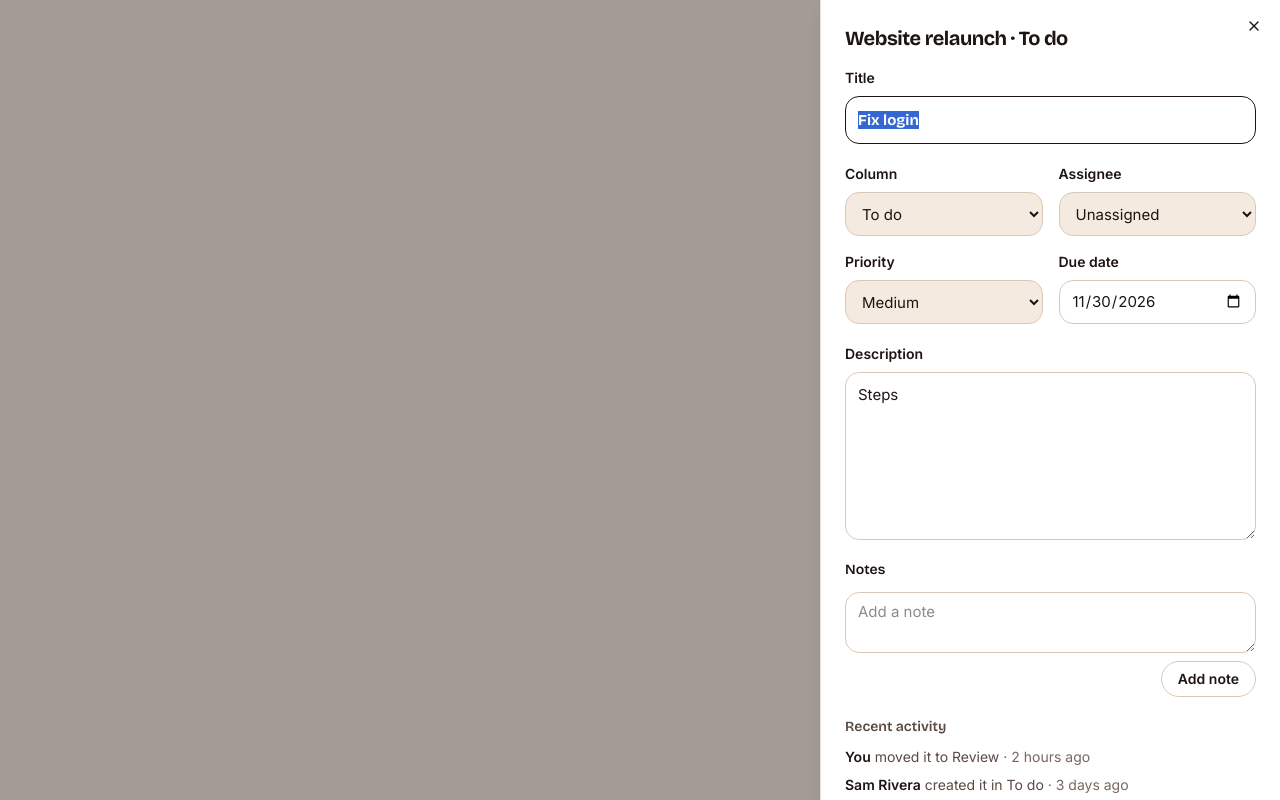
Scenario: TaskDrawer › won't save an empty title, and says why
This screenshot has width=1280, height=800.
Clear the field labelled "Title" at (1050, 120), box [845,96,1256,144]
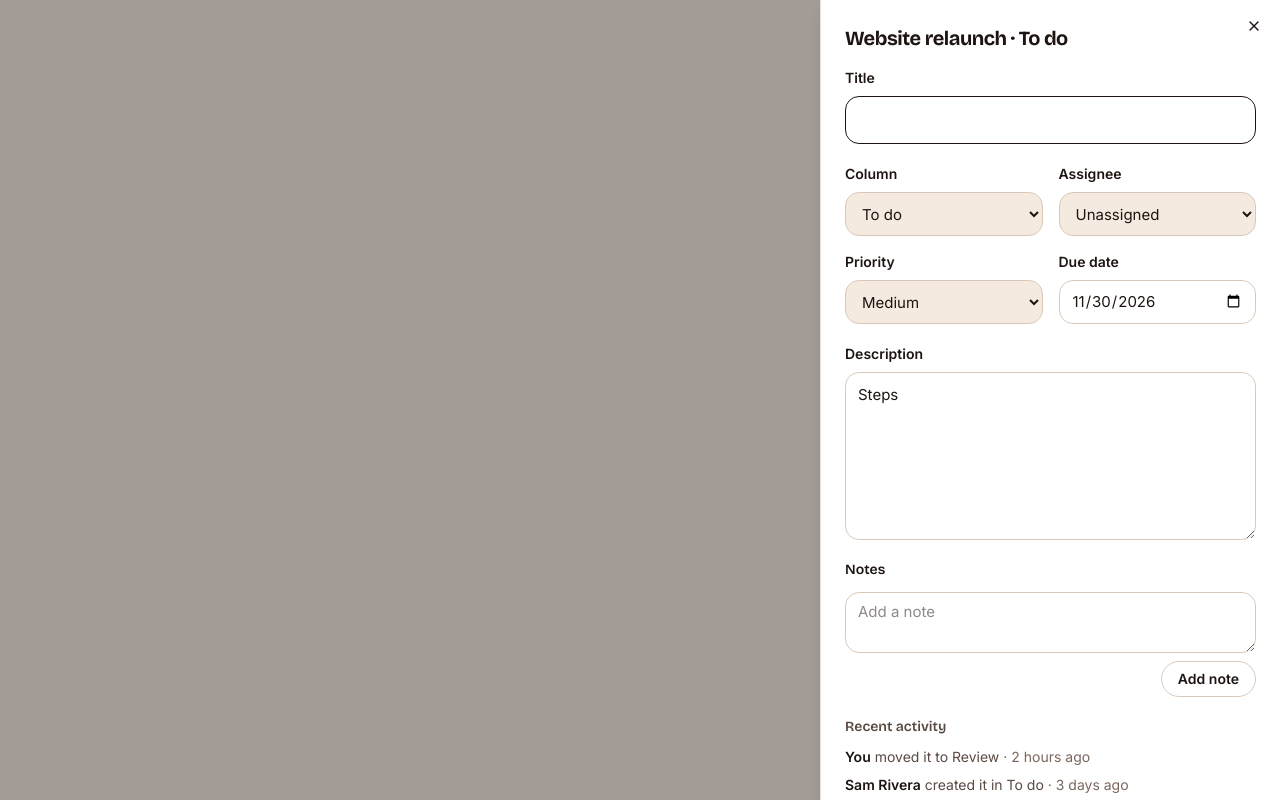
Press Tab
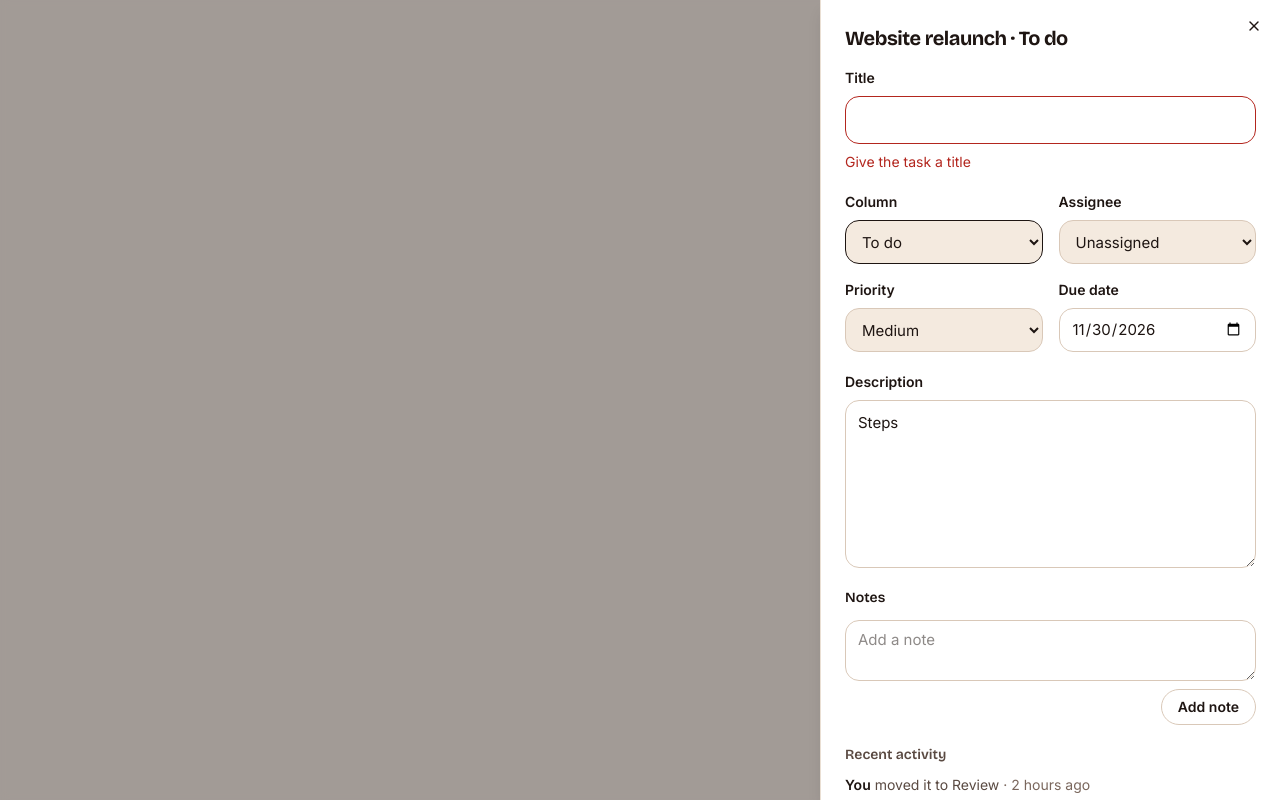
Expected: the text "Give the task a title" is shown, [845,153,971,170]
